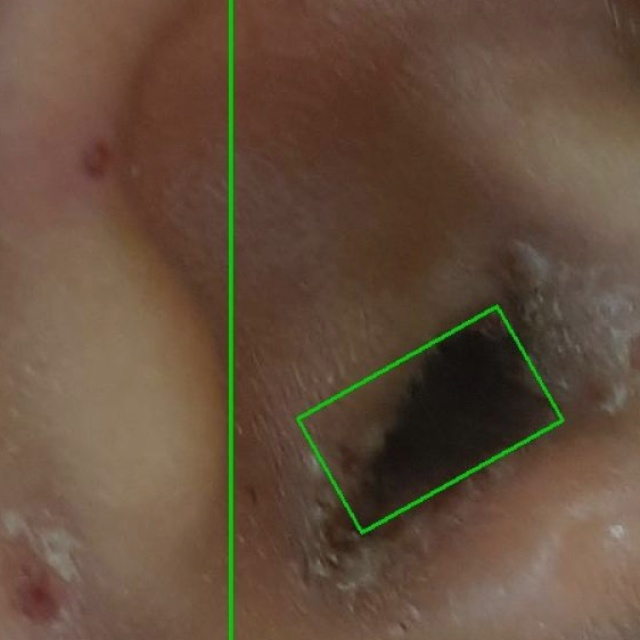Contact Dermatitis: (0, 0, 230, 639), (298, 306, 562, 533)
